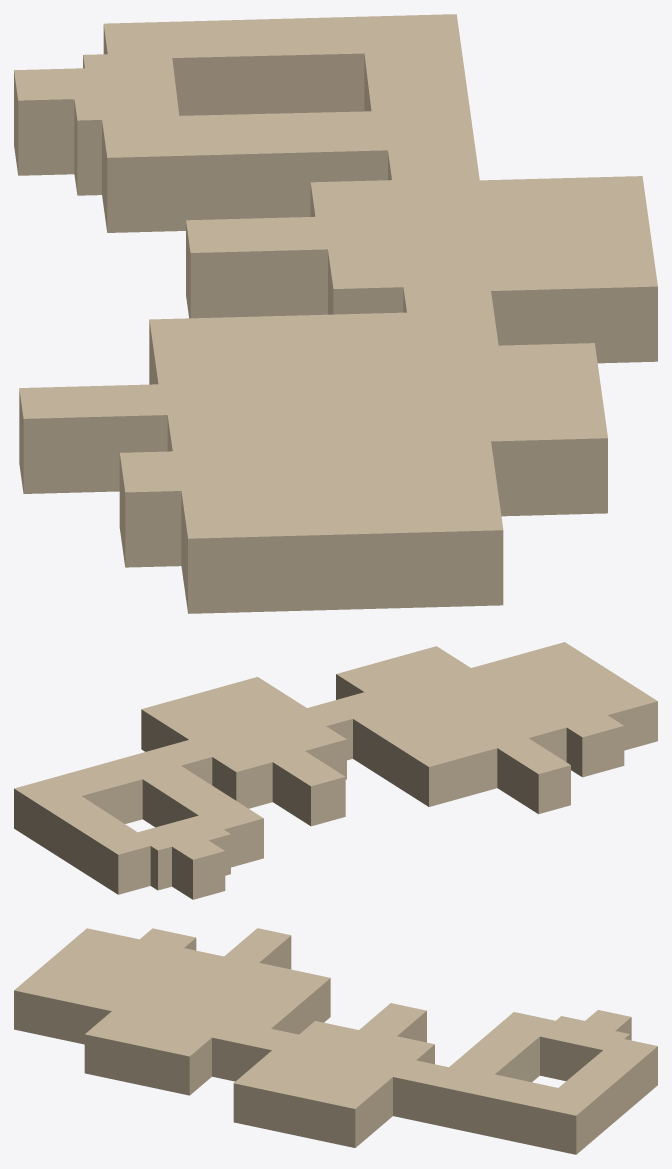
The model's file is -5_8-estimated-coarse.glb.
3 views of the same model, one above another, from view 1: azimuth 30°, elevation 25°; view 2: azimuth 150°, elevation 25°; view 3: azimuth 270°, elevation 25° (orthographic). The views are drawn at different scales.
Size of the model in its own units: 124 by 12 by 179.
